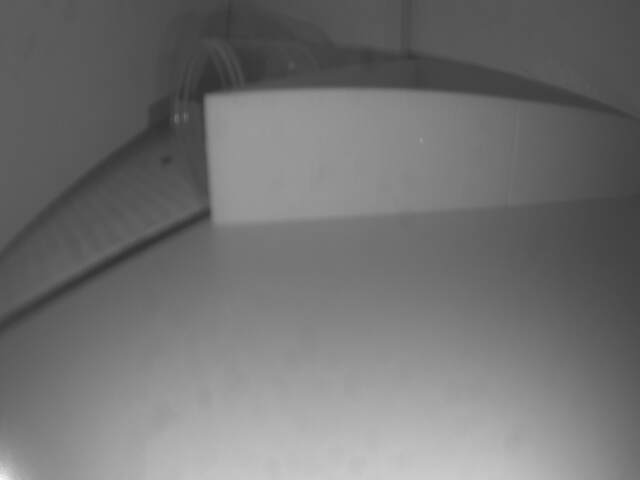Point: (205, 90, 637, 227)
